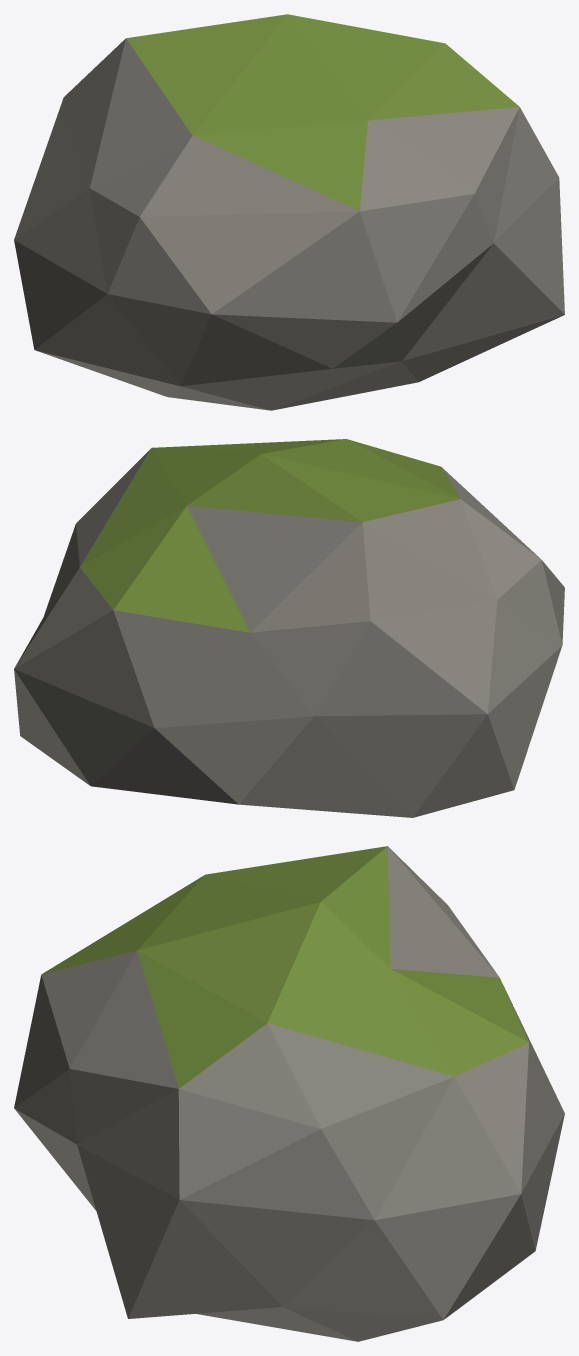
The model's file is SM_Rock_Medium_Moss.glb.
The picture shows the model from 3 angles, top to bottom: view 1: azimuth 30°, elevation 25°; view 2: azimuth 150°, elevation 25°; view 3: azimuth 270°, elevation 25°; orthographic projection. The views are drawn at different scales.
Visible parts, largest first — view 1: SM_Rock_Medium_Moss; view 2: SM_Rock_Medium_Moss; view 3: SM_Rock_Medium_Moss.
Boxes of the visible parts, <box> form: SM_Rock_Medium_Moss: <box>14,14,564,410</box>; SM_Rock_Medium_Moss: <box>14,439,564,817</box>; SM_Rock_Medium_Moss: <box>14,846,564,1341</box>.
Bounding box in the file's own units: 0.7558 × 0.5357 × 0.7053.
Materials: 1 (1 with a texture image).
